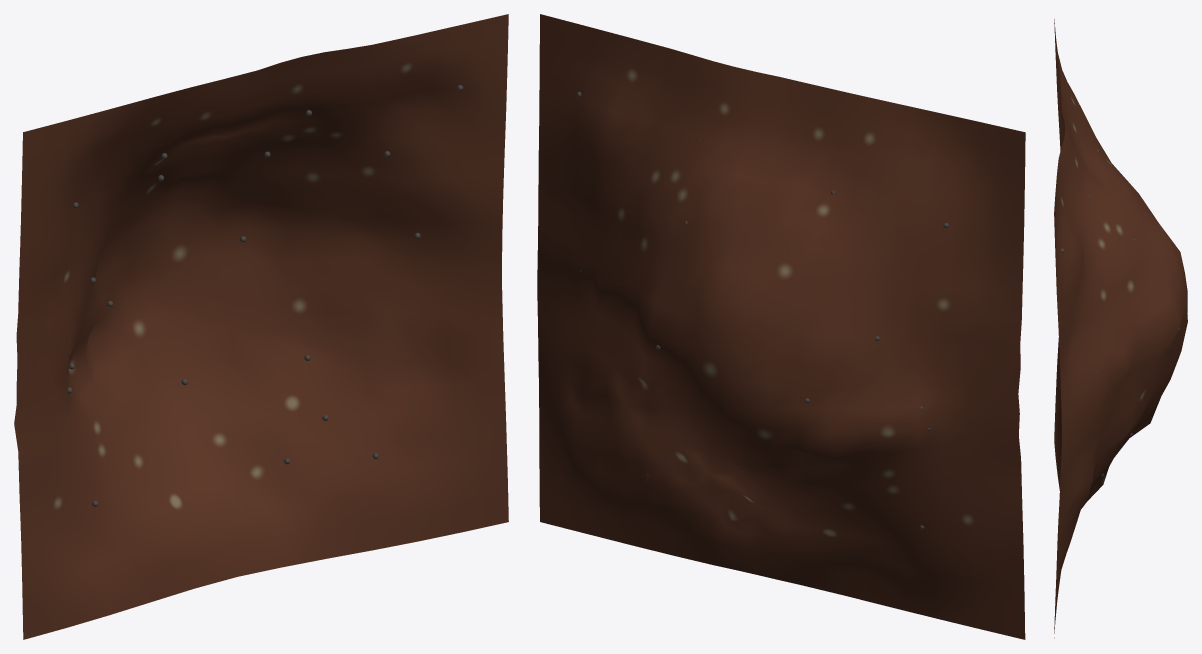
File: Plot.fbx
3 renders of one model, left to right at view 1: azimuth 30°, elevation 25°; view 2: azimuth 150°, elevation 25°; view 3: azimuth 270°, elevation 25°, orthographic. The views are drawn at different scales.
Visible parts, largest first — view 1: Plane; view 2: Plane; view 3: Plane.
Part boxes in pixels (left/top/right/bottom): Plane: left=14, top=14, right=508, bottom=639; Plane: left=537, top=14, right=1025, bottom=639; Plane: left=1054, top=19, right=1187, bottom=638.
Bounding box in the file's own units: 85.93 × 85.88 × 24.37.
2 materials, 2 textured.
